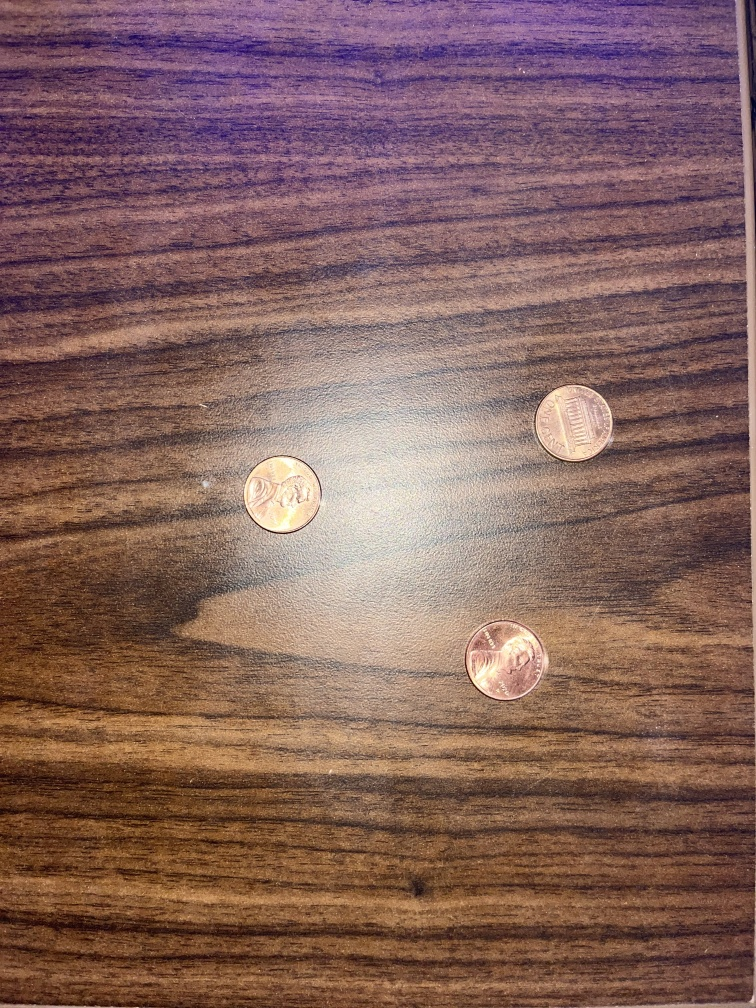penny: (454, 616, 552, 708), (234, 451, 328, 542), (532, 377, 621, 473)
